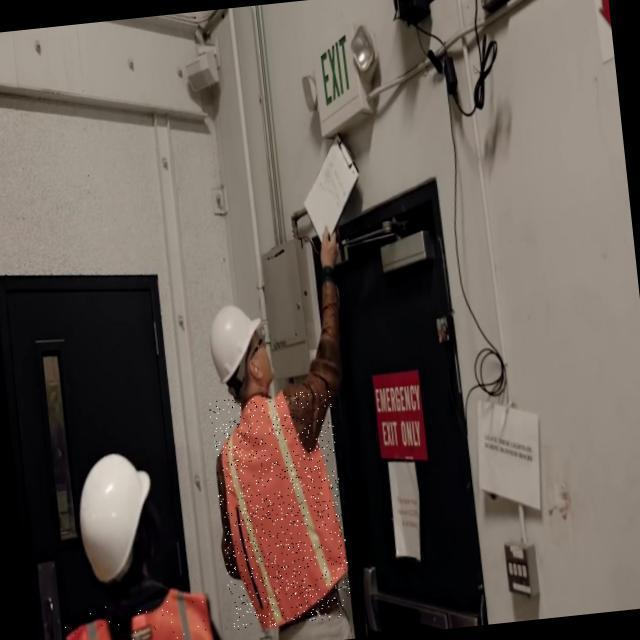helmet: (69, 433, 167, 589), (203, 297, 269, 393)
vest: (209, 389, 354, 630), (58, 592, 216, 640)
